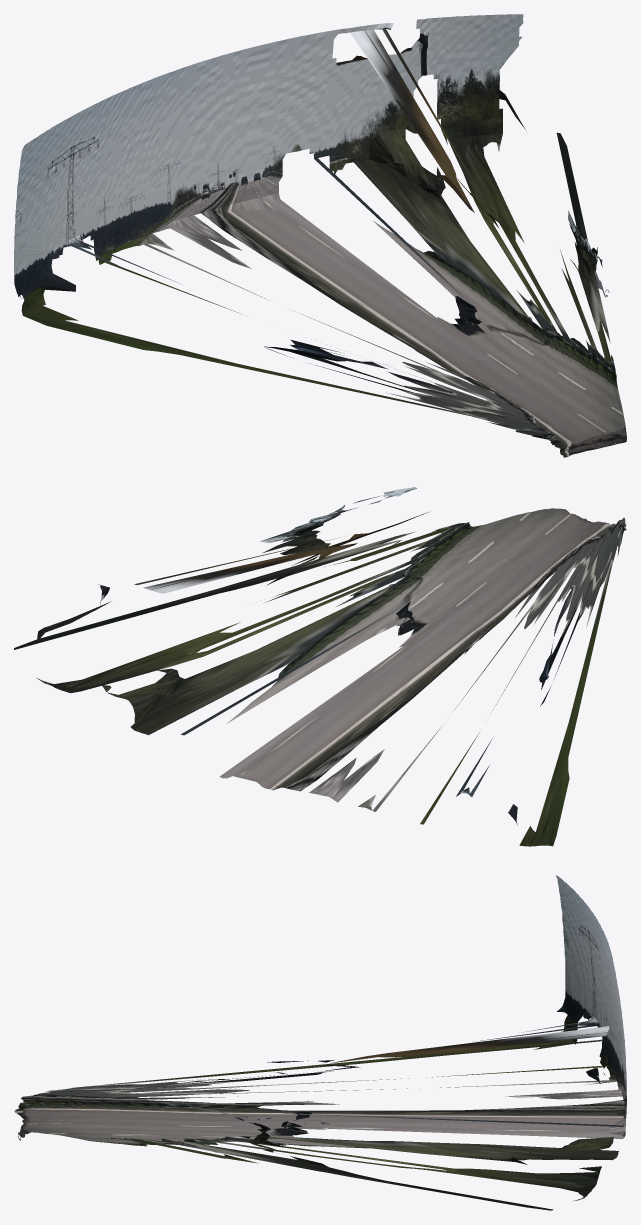
The picture shows the model from 3 angles, top to bottom: view 1: azimuth 30°, elevation 25°; view 2: azimuth 150°, elevation 25°; view 3: azimuth 270°, elevation 25°; orthographic projection. The views are drawn at different scales.
Visible parts, largest first — view 1: defaultobject; view 2: defaultobject; view 3: defaultobject.
Part boxes in pixels (<box>): defaultobject: <box>14,14,626,457</box>; defaultobject: <box>14,487,626,846</box>; defaultobject: <box>14,875,626,1210</box>.
Size of the model in its own units: 40.42 by 13.41 by 44.62.
Materials: 1 (1 with a texture image).
